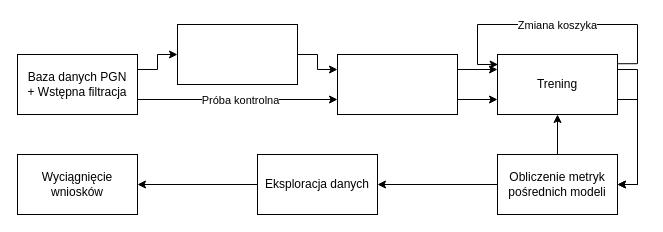
Image size: 663x232. Some labels were removed from this diagram. The box of each missing label's shape, as (x1, y1, x2, y2) in pixels:
Dodanie ewaluacji ruchów + Zmiana zapisu danych na binpack: (336, 54, 458, 114)
Rozdzielenie rozgrywek na koszyki: (176, 24, 298, 84)
